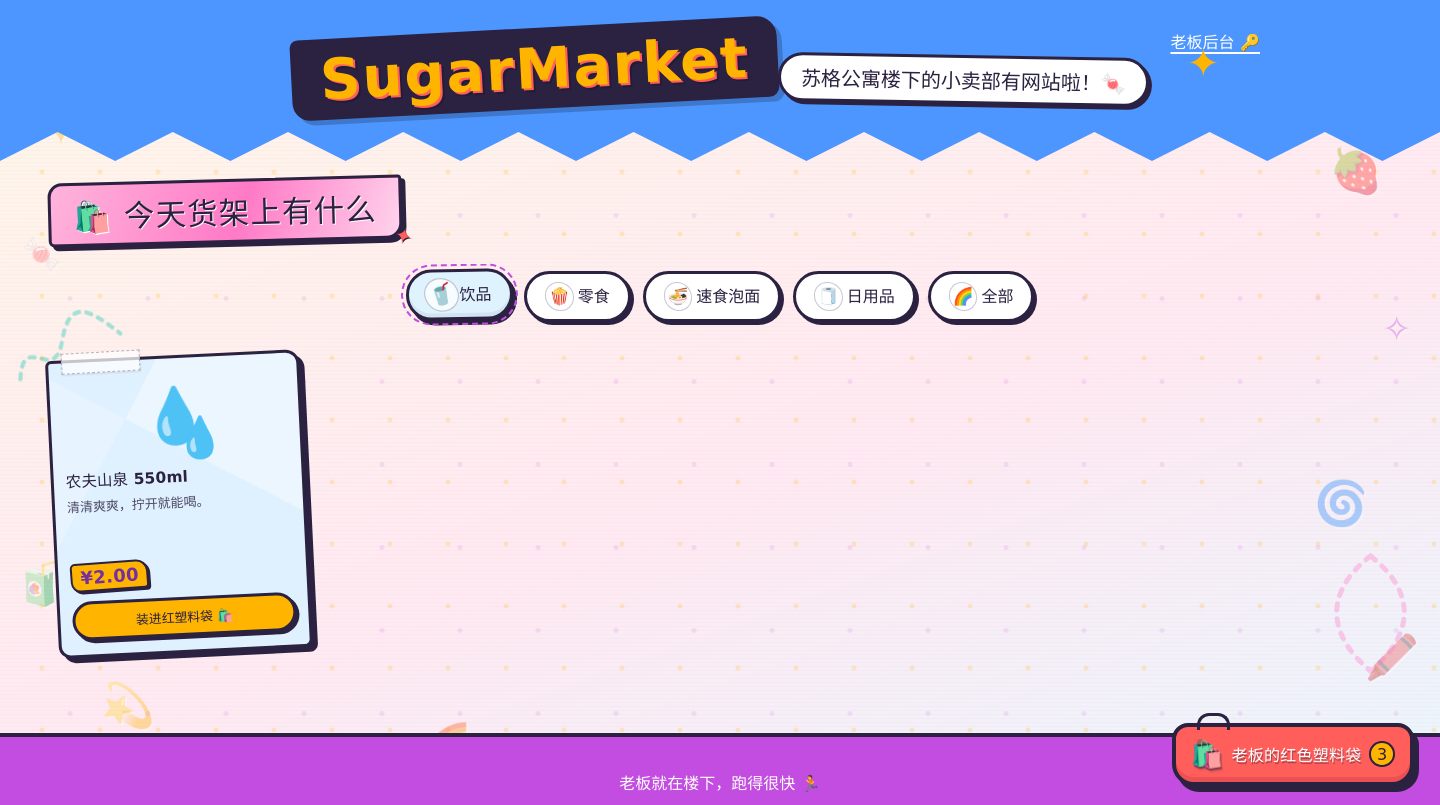
storefront catalog and checkout › restores the product IDs and quantities after a page remount
Expected: the heading "农夫山泉 550ml" is shown, [65,467,188,491]
Click the button with aria-label "老板的红色塑料袋，共3件": click(1293, 754) [1172,723,1414,786]
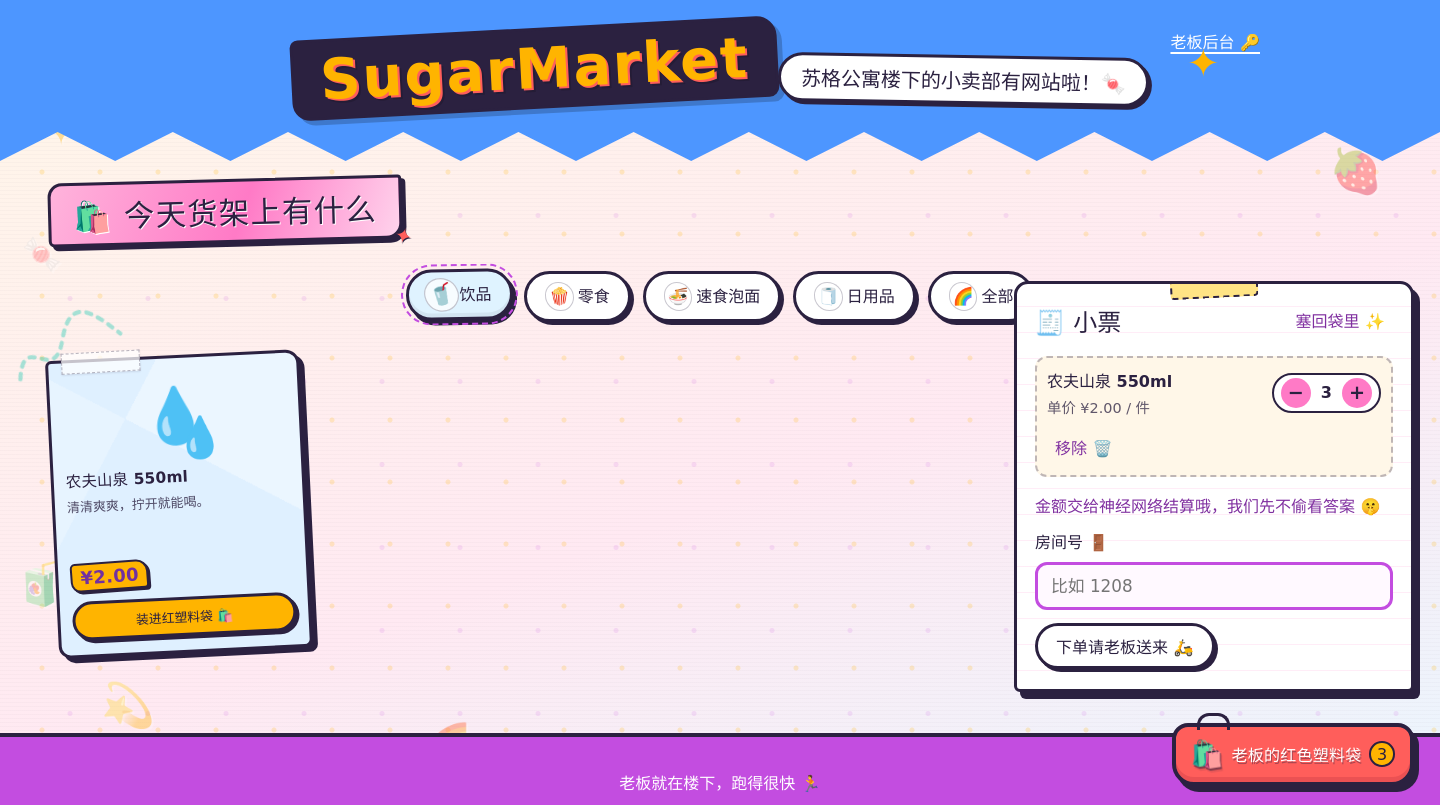
Now the text "单价 ¥2.00 / 件" is shown, box [1047,400,1150,416]
Now the text "3" below "🧾 小票" is shown, box [1321,383,1332,402]
